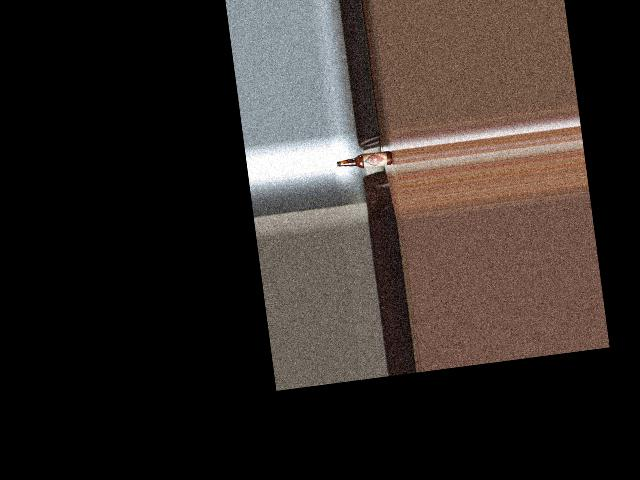beer: (336, 150, 393, 170)
